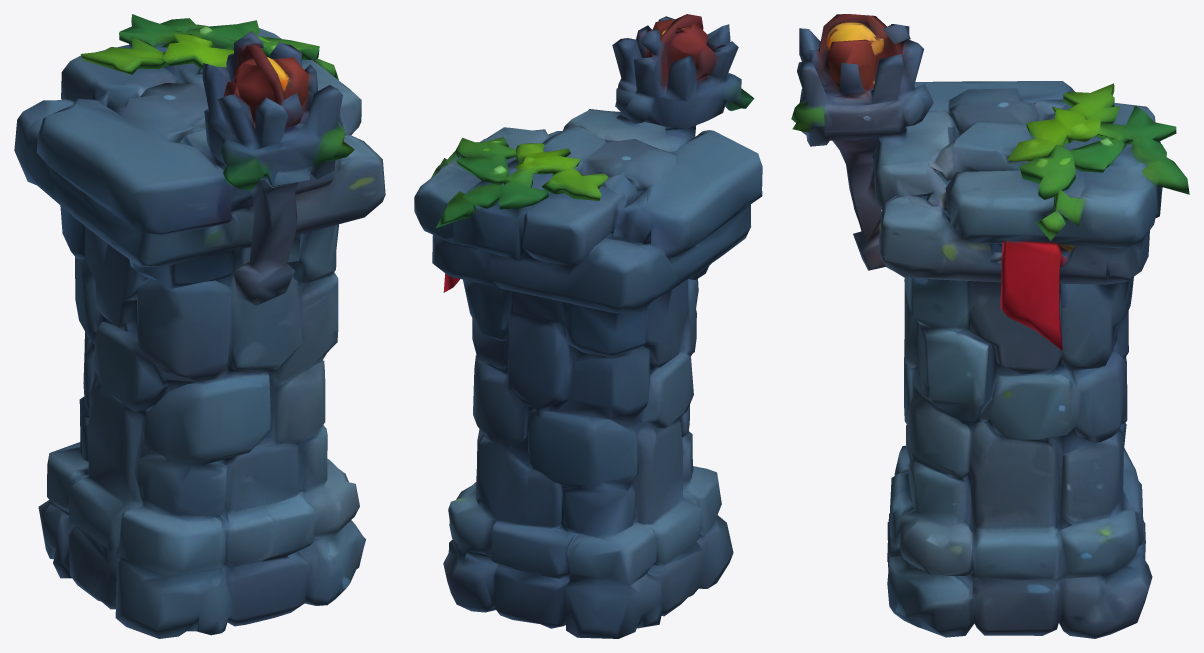
File: camp_pillar-CnAyEiMu.glb
3 views of the same model, side by side, from view 1: azimuth 30°, elevation 25°; view 2: azimuth 150°, elevation 25°; view 3: azimuth 270°, elevation 25° (orthographic). The views are drawn at different scales.
Parts seen in each view (by area): view 1: tripo_node_fdb75e56-5e5d-46f3-9c21-99d5ea58d247; view 2: tripo_node_fdb75e56-5e5d-46f3-9c21-99d5ea58d247; view 3: tripo_node_fdb75e56-5e5d-46f3-9c21-99d5ea58d247.
Boxes of the visible parts, left/top/right/bottom form: tripo_node_fdb75e56-5e5d-46f3-9c21-99d5ea58d247: left=14, top=14, right=385, bottom=638; tripo_node_fdb75e56-5e5d-46f3-9c21-99d5ea58d247: left=414, top=14, right=762, bottom=638; tripo_node_fdb75e56-5e5d-46f3-9c21-99d5ea58d247: left=791, top=14, right=1189, bottom=638.
Size of the model in its own units: 0.52 by 1 by 0.6408.
Materials: 1 (1 with a texture image).
